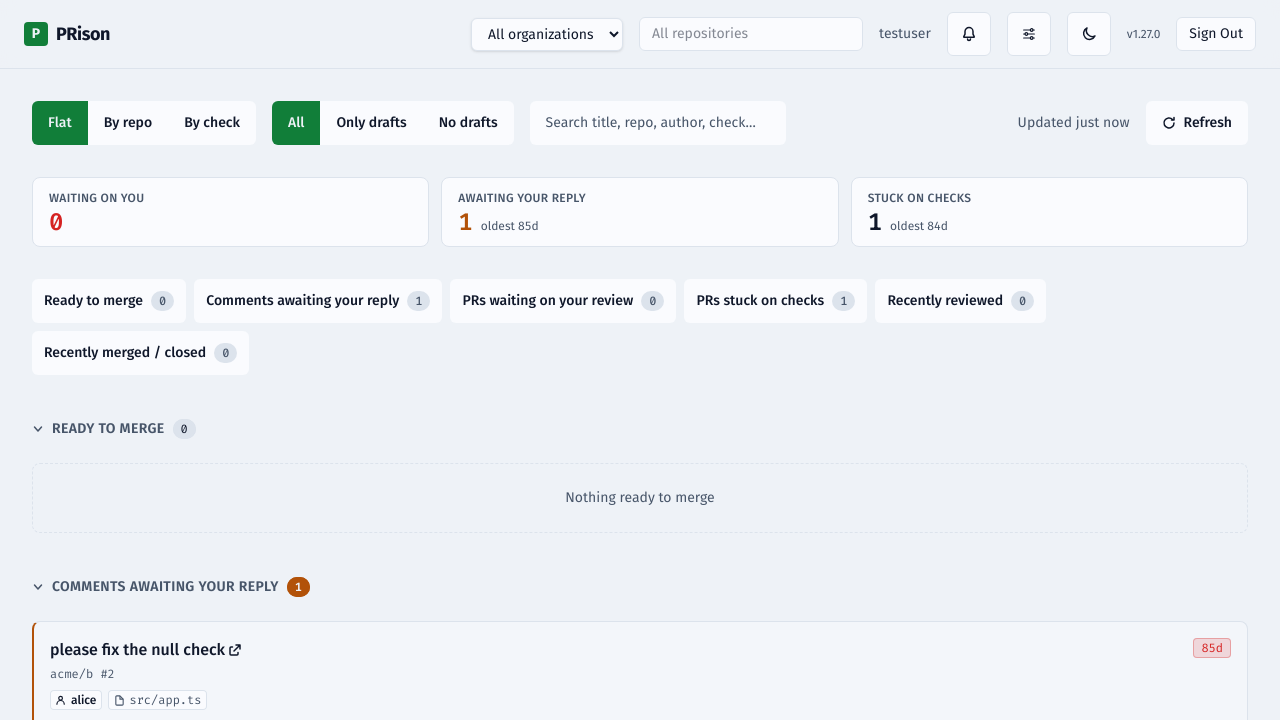
Test: Dashboard — comments awaiting your reply › hides bot comments by default and reveals them when 'Show bot comments' is checked
expect the link "please fix the null check" is shown: met, box [50, 638, 241, 662]
expect the text "bot says something" is not shown: met
Click the button named "Settings".
click(1029, 34)  # box [1007, 12, 1051, 56]
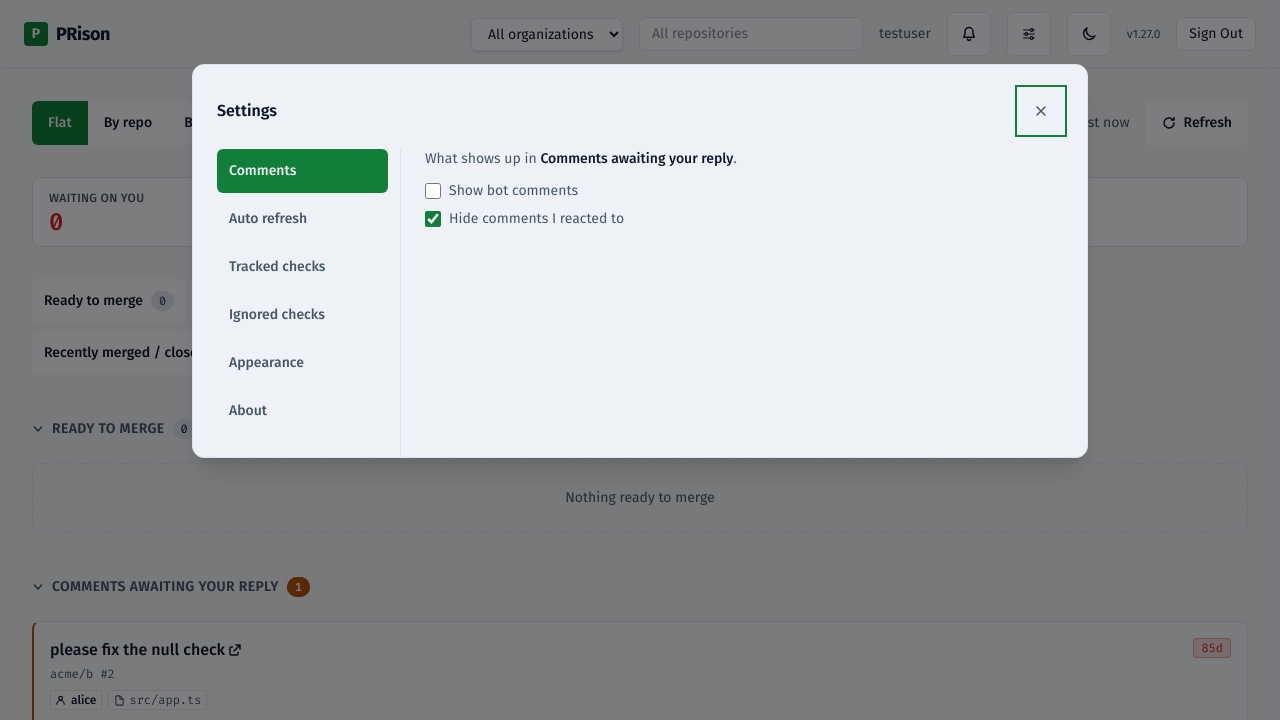
Click the checkbox labelled "Show bot comments".
click(433, 191)  # box [425, 183, 441, 199]
(page scrolled)
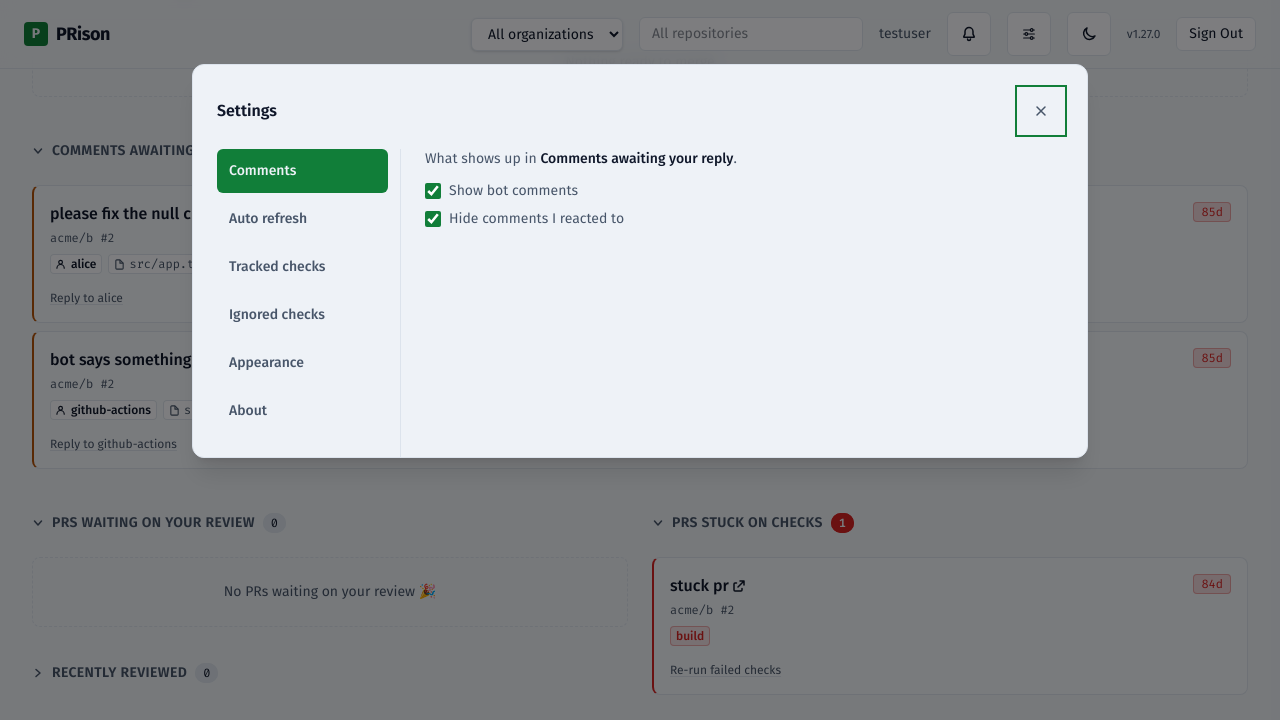
expect the link "bot says something" is shown: met, box [50, 348, 208, 372]
